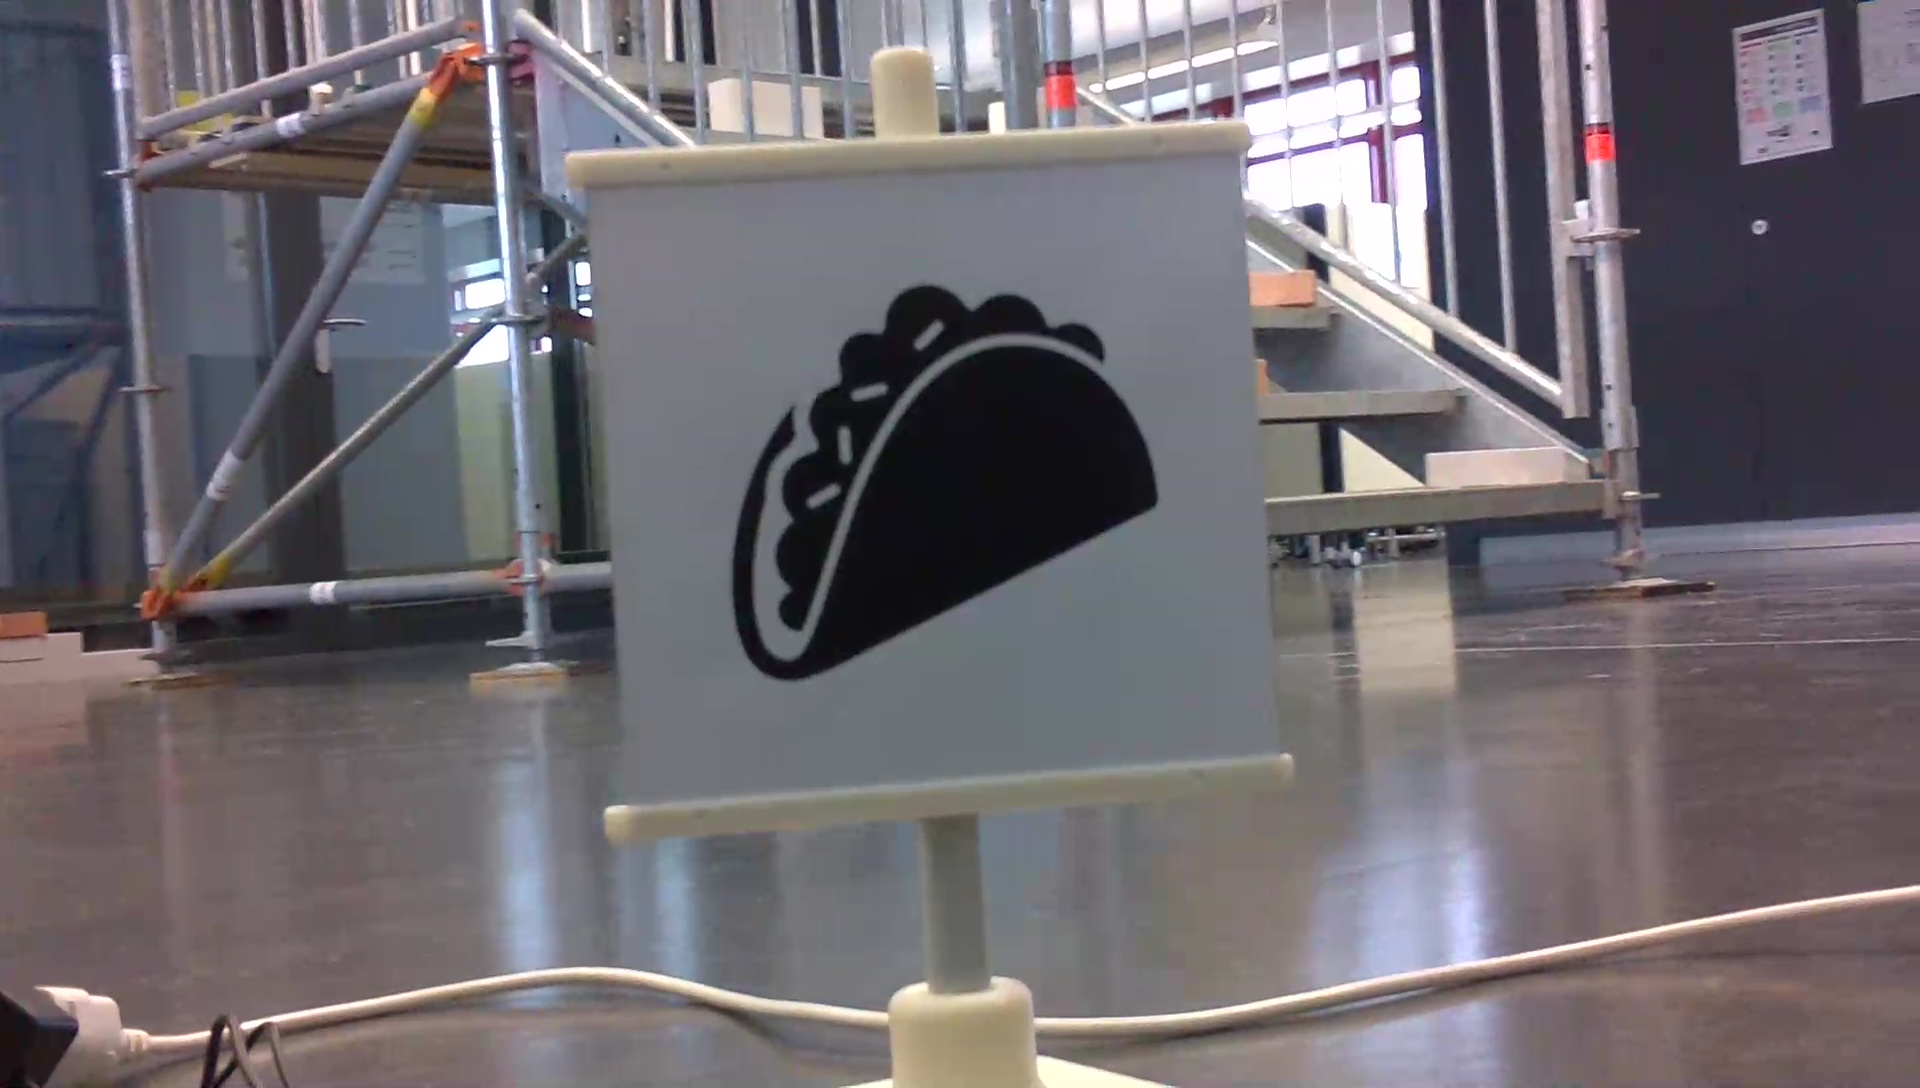brick: (1424, 444, 1563, 480), (1247, 270, 1313, 301)
taco: (713, 274, 1175, 694)
